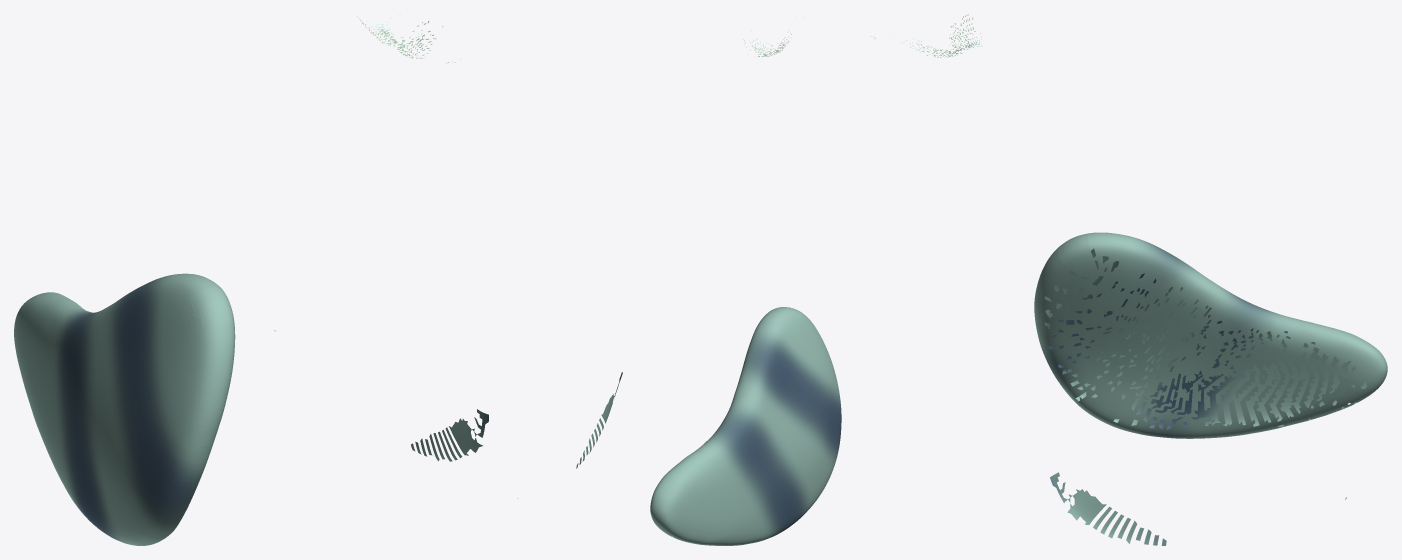
Rendered from paloma_alader.glb.
3 renders of one model, left to right at view 1: azimuth 30°, elevation 25°; view 2: azimuth 150°, elevation 25°; view 3: azimuth 270°, elevation 25°, orthographic. The views are drawn at different scales.
Parts seen in each view (by area): view 1: Pigeon_Pigeon3_0.001; view 2: Pigeon_Pigeon3_0.001; view 3: Pigeon_Pigeon3_0.001.
Boxes of the visible parts, left/top/right/bottom form: Pigeon_Pigeon3_0.001: left=14, top=14, right=488, bottom=545; Pigeon_Pigeon3_0.001: left=517, top=31, right=841, bottom=545; Pigeon_Pigeon3_0.001: left=870, top=14, right=1387, bottom=545.
Bounding box in the file's own units: 2.21 × 3.67 × 3.66.
